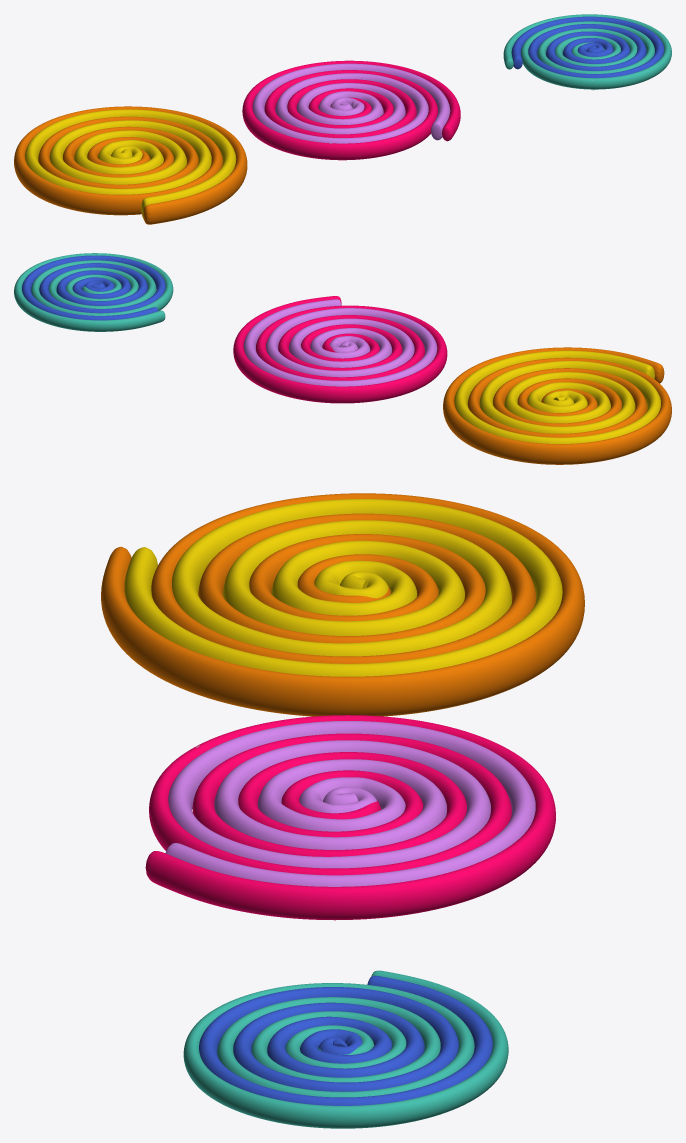
Rendered from lecca_lecca.fbx.
3 renders of one model, top to bottom at view 1: azimuth 30°, elevation 25°; view 2: azimuth 150°, elevation 25°; view 3: azimuth 270°, elevation 25°, orthographic. The views are drawn at different scales.
Visible parts, largest first — view 1: Lolli2.002, Lollipop1, Lolli3; view 2: Lolli2.002, Lollipop1, Lolli3; view 3: Lolli2.002, Lollipop1, Lolli3.
Part boxes in pixels (<box>): Lolli2.002: <box>14,106,247,224</box>; Lollipop1: <box>242,60,460,160</box>; Lolli3: <box>503,14,671,90</box>; Lolli2.002: <box>443,347,671,464</box>; Lollipop1: <box>233,296,447,403</box>; Lolli3: <box>14,253,173,331</box>; Lolli2.002: <box>101,493,584,716</box>; Lollipop1: <box>145,715,555,920</box>; Lolli3: <box>183,970,508,1128</box>.
Size of the model in its own units: 703 by 24.99 by 235.
